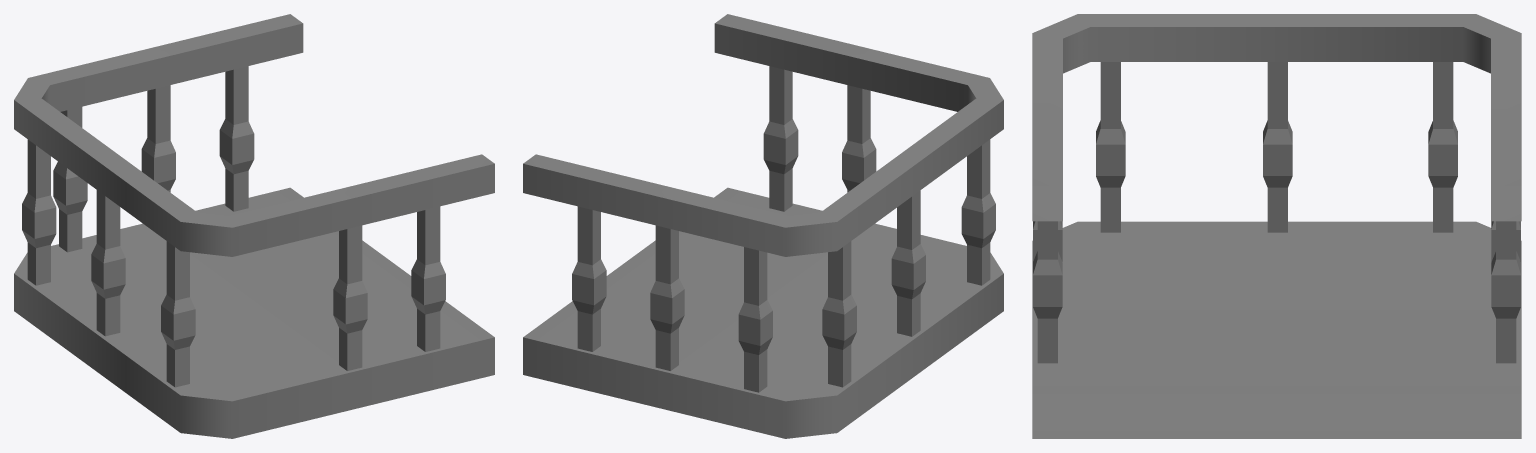
Rendered from Balcon_1_2_A.fbx.
3 renders of one model, left to right at view 1: azimuth 30°, elevation 25°; view 2: azimuth 150°, elevation 25°; view 3: azimuth 270°, elevation 25°, orthographic. The views are drawn at different scales.
Parts seen in each view (by area): view 1: Balcon_1_2_A; view 2: Balcon_1_2_A; view 3: Balcon_1_2_A.
Boxes of the visible parts, x1,y1,x2,y2 form: Balcon_1_2_A: [14, 14, 494, 438]; Balcon_1_2_A: [523, 14, 1003, 438]; Balcon_1_2_A: [1032, 14, 1521, 438].
Bounding box in the file's own units: 126 × 85.82 × 151.
